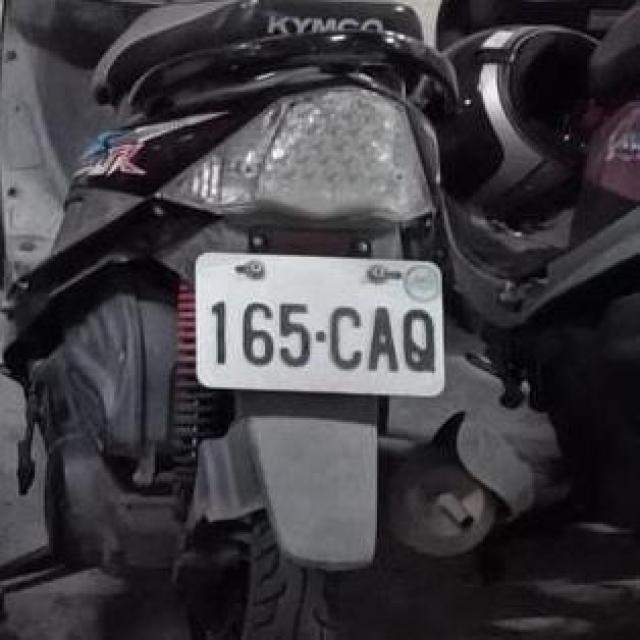W: (188, 240, 450, 402)
